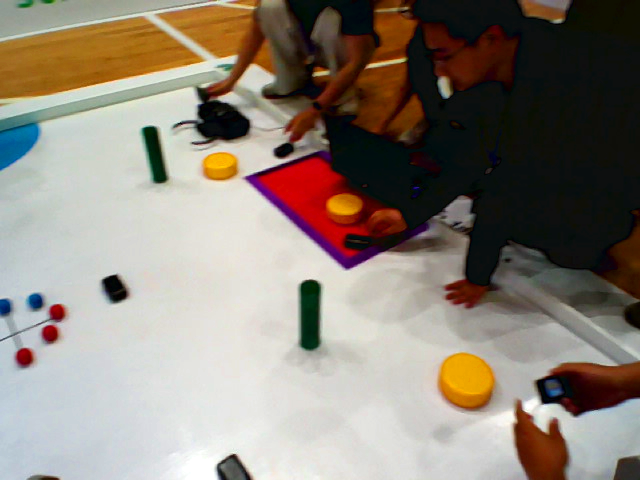black: (216, 452, 256, 480), (102, 270, 129, 304), (274, 138, 297, 154)
blue: (29, 293, 45, 309), (1, 299, 12, 319)
kuang: (246, 153, 436, 271)
red: (49, 302, 70, 323), (14, 347, 35, 367), (41, 324, 59, 344)
yellow: (437, 350, 499, 411), (324, 191, 367, 223), (202, 151, 240, 180)
zhuzi: (294, 277, 325, 348), (139, 124, 170, 184)
